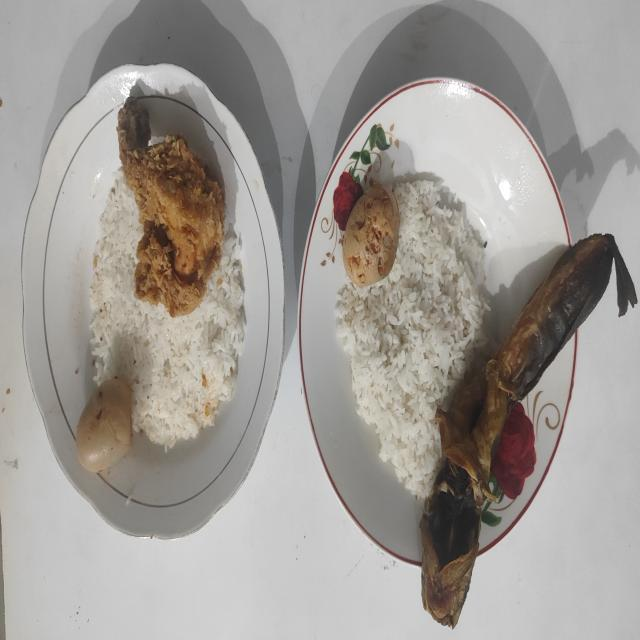nasi_putih: (335, 180, 489, 500), (90, 170, 246, 450)
